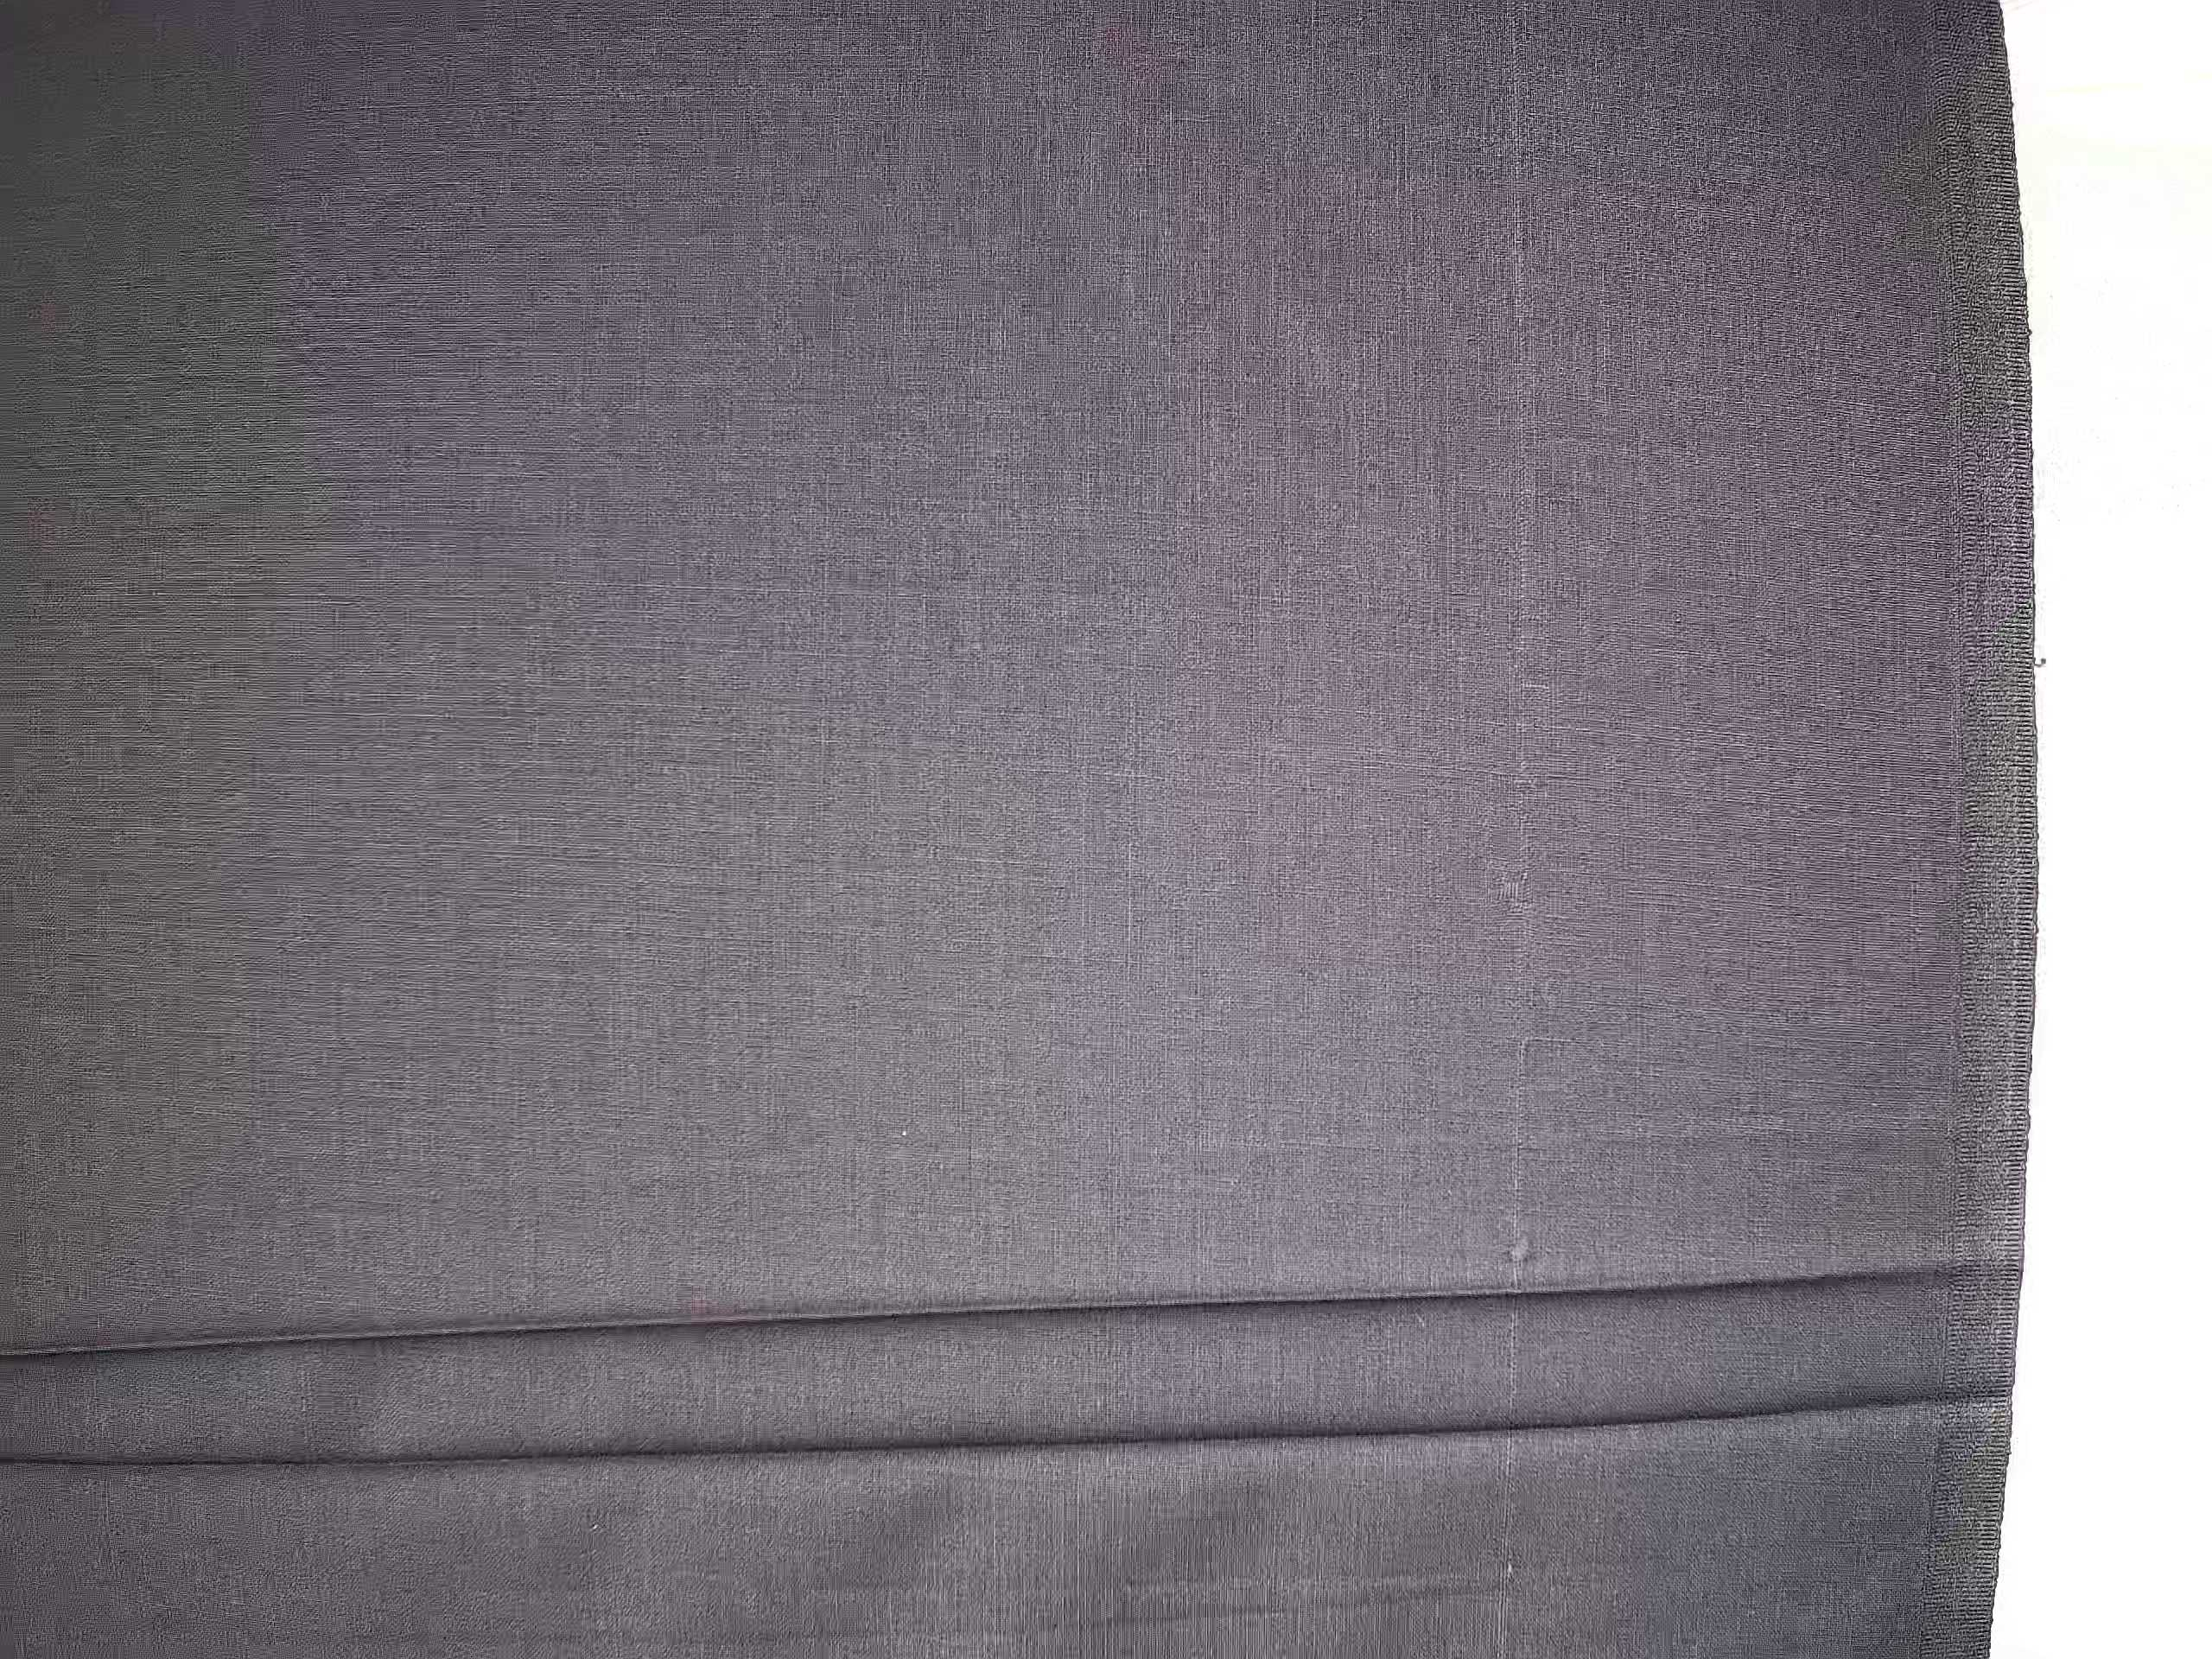hanging-warp: (1477, 10, 1538, 1645)
